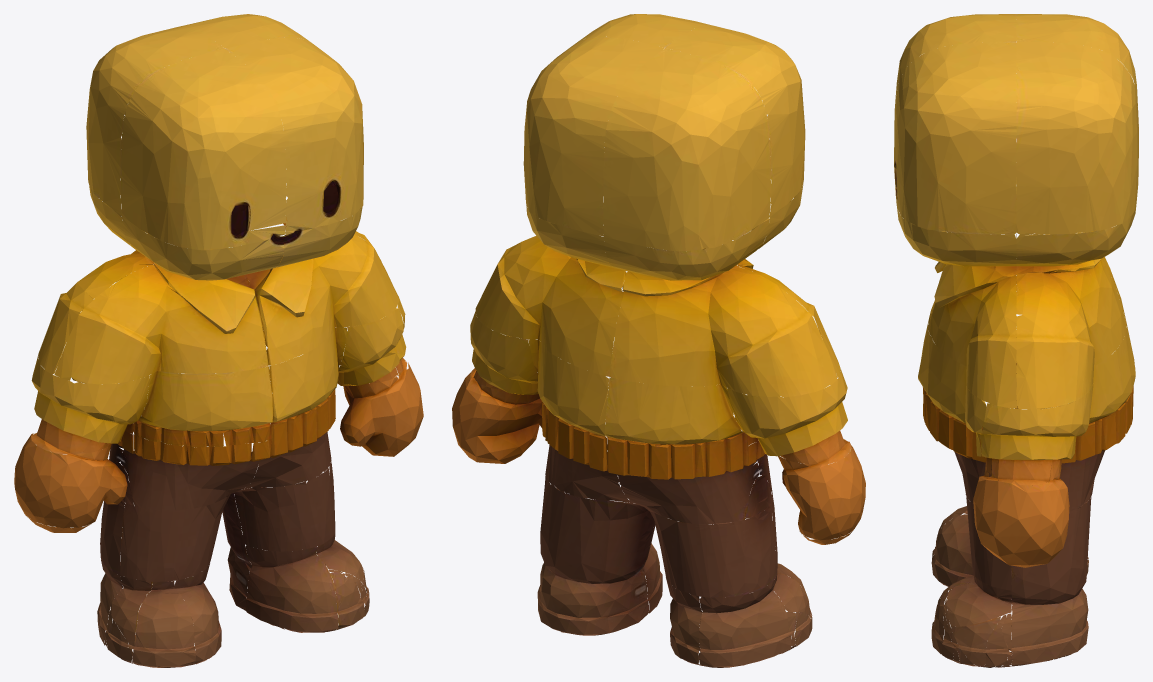
Rendered from player.glb.
The picture shows the model from 3 angles, left to right: view 1: azimuth 30°, elevation 25°; view 2: azimuth 150°, elevation 25°; view 3: azimuth 270°, elevation 25°; orthographic projection.
Visible parts, largest first — view 1: world; view 2: world; view 3: world.
Boxes of the visible parts, <box> form: world: <box>14,14,423,667</box>; world: <box>452,14,865,667</box>; world: <box>894,14,1138,667</box>.
Size of the model in its own units: 0.7244 by 1 by 0.3906.
1 material, 1 textured.
